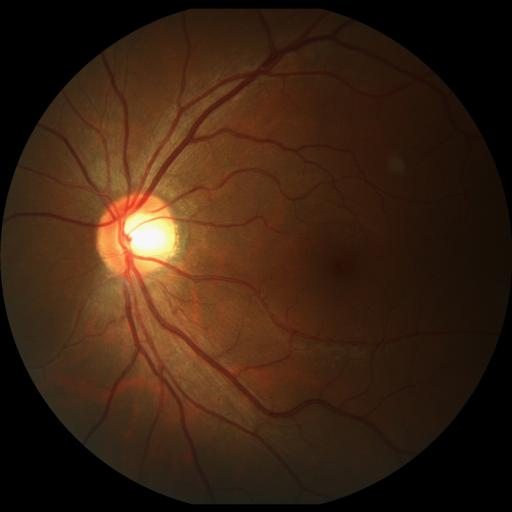Optic Cup: (116, 211, 170, 256)
Optic Disc: (96, 192, 179, 278)
